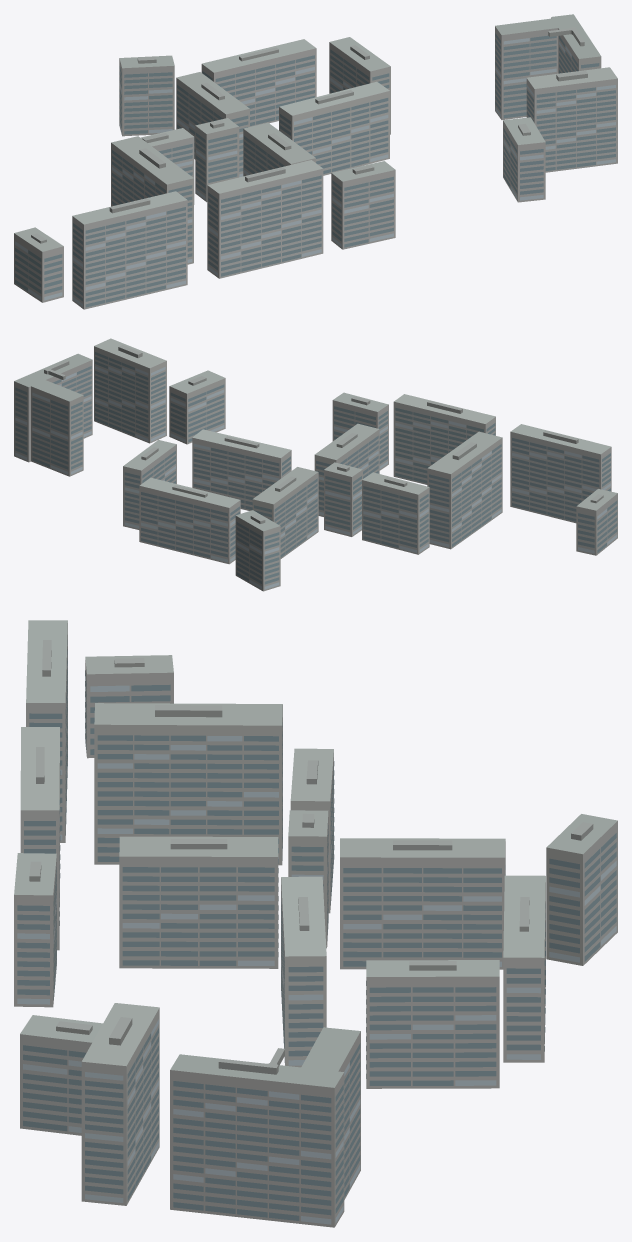
Rendered from apt-a12119006.glb.
3 views of the same model, one above another, from view 1: azimuth 30°, elevation 25°; view 2: azimuth 150°, elevation 25°; view 3: azimuth 270°, elevation 25° (orthographic). The views are drawn at different scales.
Visible parts, largest first — view 1: apt-a12119006; view 2: apt-a12119006; view 3: apt-a12119006.
Part boxes in pixels (x1,y1,x2,y2): apt-a12119006: (14, 14, 617, 309); apt-a12119006: (14, 338, 617, 591); apt-a12119006: (14, 620, 617, 1227).
Size of the model in its own units: 286 by 40 by 150.
